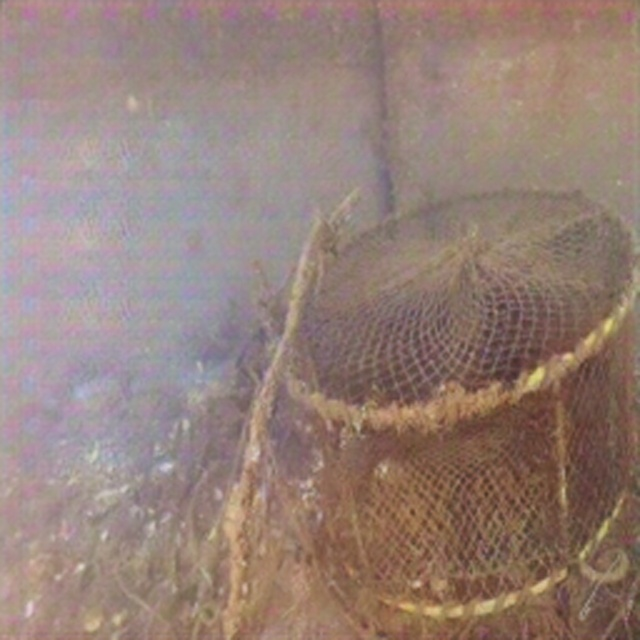mine: (283, 183, 640, 620)
